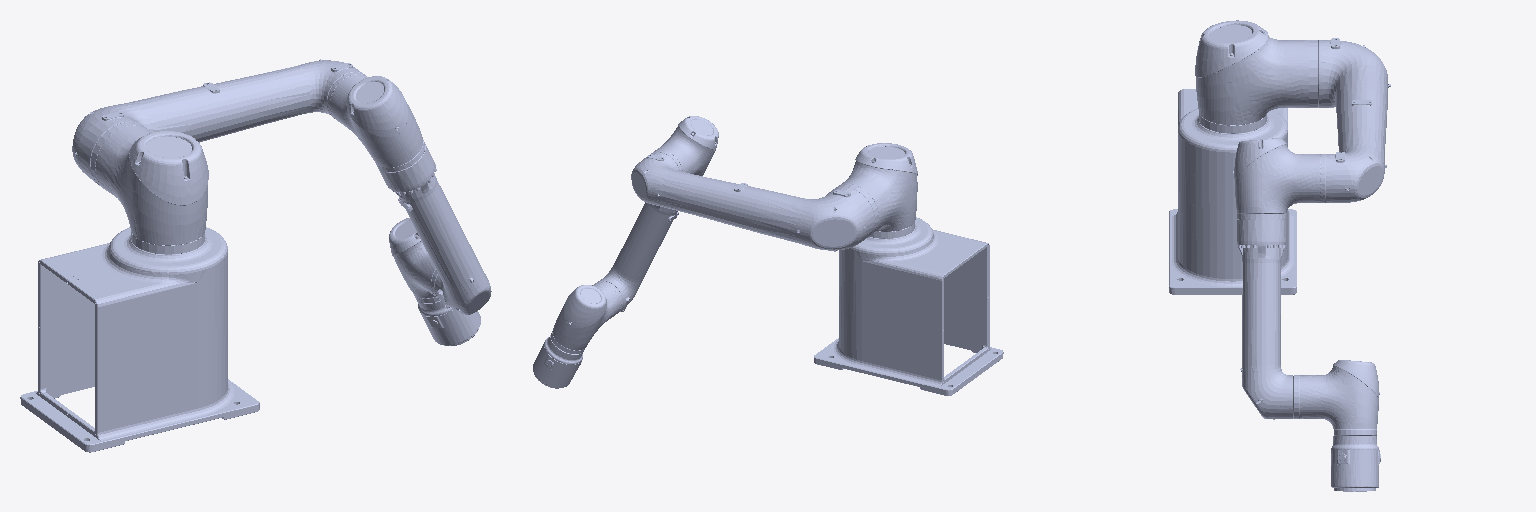
robot.urdf — hsr_co602:
<robot
  name="hsr_co602">


  <link name="world"/>

  <joint name="fixed" type="fixed">
    <parent link="world"/>
    <child link="base_link"/>
	<origin
      xyz="0 0 0.368"
      rpy="0 0 0" />
  </joint>

  <link
    name="base_link">
    <inertial>
      <origin
        xyz="-0.053135 0.00011269 -0.23463"
        rpy="0 0 0" />
      <mass
        value="9.6397" />
      <inertia
        ixx="0.0131883649088827"
        ixy="0.000223190726719286"
        ixz="0.0065397673191675"
        iyy="0.381831864466054"
        iyz="-5.12287437923494E-05"
        izz="0.379772548456655" />
    </inertial>
    <visual>
      <origin
        xyz="0 0 0"
        rpy="0 0 0" />
      <geometry>
        <mesh
          filename="package://hsr_description/meshes/co602/base_link.STL" />
      </geometry>
      <material
        name="">
        <color
          rgba="0.79216 0.81961 0.93333 1" />
      </material>
    </visual>
    <collision>
      <origin
        xyz="0 0 0"
        rpy="0 0 0" />
      <geometry>
        <mesh
          filename="package://hsr_description/meshes/co602/base_link.STL" />
      </geometry>
    </collision>
  </link>
  <link
    name="link1">
    <inertial>
      <origin
        xyz="1.7273E-05 0.041032 -0.008841"
        rpy="0 0 0" />
      <mass
        value="3.228" />
      <inertia
        ixx="0.0131883649088827"
        ixy="0.000223190726719286"
        ixz="0.0065397673191675"
        iyy="0.381831864466054"
        iyz="-5.12287437923494E-05"
        izz="0.379772548456655" />
    </inertial>
    <visual>
      <origin
        xyz="0 0 0"
        rpy="0 0 0" />
      <geometry>
        <mesh
          filename="package://hsr_description/meshes/co602/link1.STL" />
      </geometry>
      <material
        name="">
        <color
          rgba="0.79216 0.81961 0.93333 1" />
      </material>
    </visual>
    <collision>
      <origin
        xyz="0 0 0"
        rpy="0 0 0" />
      <geometry>
        <mesh
          filename="package://hsr_description/meshes/co602/link1.STL" />
      </geometry>
    </collision>
  </link>
  <joint
    name="joint_1"
    type="revolute">
    <origin
      xyz="0 0 0"
      rpy="-2.4562E-16 -3.154E-16 9.8608E-32" />
    <parent
      link="base_link" />
    <child
      link="link1" />
    <axis
      xyz="0 0 1" />
    <limit  lower="-3.4" upper="3.4" effort="28.0" velocity="3.2"/>
  <safety_controller k_position="100"
                     k_velocity="10"
                     soft_lower_limit="-3.4"
                     soft_upper_limit="3.4" />
  </joint>
  <link
    name="link2">
    <inertial>
      <origin
        xyz="0.18307 -4.0145E-05 -0.0052846"
        rpy="0 0 0" />
      <mass
        value="2.9808" />
      <inertia
        ixx="0.0131883649088827"
        ixy="0.000223190726719286"
        ixz="0.0065397673191675"
        iyy="0.381831864466054"
        iyz="-5.12287437923494E-05"
        izz="0.379772548456655" />
    </inertial>
    <visual>
      <origin
        xyz="0 0 0"
        rpy="0 0 0" />
      <geometry>
        <mesh
          filename="package://hsr_description/meshes/co602/link2.STL" />
      </geometry>
      <material
        name="">
        <color
          rgba="0.79216 0.81961 0.93333 1" />
      </material>
    </visual>
    <collision>
      <origin
        xyz="0 0 0"
        rpy="0 0 0" />
      <geometry>
        <mesh
          filename="package://hsr_description/meshes/co602/link2.STL" />
      </geometry>
    </collision>
  </link>
  <joint
    name="joint_2"
    type="revolute">
    <origin
      xyz="0 0.221 0"
      rpy="-1.5708 3.2234E-16 -9.0966E-30" />
    <parent
      link="link1" />
    <child
      link="link2" />
    <axis
      xyz="0 0 1" />
    <limit  lower="-3.0" upper="0.0" effort="28.0" velocity="3.2"/>
  <safety_controller k_position="100"
                     k_velocity="10"
                     soft_lower_limit="-3.0"
                     soft_upper_limit="0.0" />
  </joint>
  <link
    name="link3">
    <inertial>
      <origin
        xyz="5.3736057578635E-06 -0.00567869938833004 -0.143945640445635"
        rpy="0 0 0" />
      <mass
        value="1.40027181615014" />
      <inertia
        ixx="0.00181207507130265"
        ixy="-8.15897686341942E-07"
        ixz="-8.10607375549069E-05"
        iyy="0.00341914497805436"
        iyz="-2.61386178037707E-08"
        izz="0.00304056546013647" />
    </inertial>
    <visual>
      <origin
        xyz="0 0 0"
        rpy="0 0 0" />
      <geometry>
        <mesh
          filename="package://hsr_description/meshes/co602/link3.STL" />
      </geometry>
      <material
        name="">
        <color
          rgba="0.792156862745098 0.819607843137255 0.933333333333333 1" />
      </material>
    </visual>
    <collision>
      <origin
        xyz="0 0 0"
        rpy="0 0 0" />
      <geometry>
        <mesh
          filename="package://hsr_description/meshes/co602/link3.STL" />
      </geometry>
    </collision>
  </link>
  <joint
    name="joint_3"
    type="revolute">
    <origin
      xyz="0.425 0 0"
      rpy="6.7185E-17 -3.5791E-18 1.1796E-16" />
    <parent
      link="link2" />
    <child
      link="link3" />
    <axis
      xyz="0 0 1" />
    <limit  lower="1.4" upper="4.0" effort="28.0" velocity="3.2"/>
  <safety_controller k_position="100"
                     k_velocity="10"
                     soft_lower_limit="1.4"
                     soft_upper_limit="4.0" /> 
  </joint>
  <link
    name="link4">
    <inertial>
      <origin
        xyz="-3.92068223845077E-05 -0.00221851491153464 0.239302943183666"
        rpy="0 0 0" />
      <mass
        value="1.19786144008567" />
      <inertia
        ixx="0.100556216689899"
        ixy="-8.97773998376489E-09"
        ixz="-0.00192678369752958"
        iyy="0.100584424161445"
        iyz="9.85953790614856E-07"
        izz="0.00297677714591598" />
    </inertial>
    <visual>
      <origin
        xyz="0 0 0"
        rpy="0 0 0" />
      <geometry>
        <mesh
          filename="package://hsr_description/meshes/co602/link4.STL" />
      </geometry>
      <material
        name="">
        <color
          rgba="0.792156862745098 0.819607843137255 0.933333333333333 1" />
      </material>
    </visual>
    <collision>
      <origin
        xyz="0 0 0"
        rpy="0 0 0" />
      <geometry>
        <mesh
          filename="package://hsr_description/meshes/co602/link4.STL" />
      </geometry>
    </collision>
  </link>
  <joint
    name="joint_4"
    type="revolute">
    <origin
      xyz="0 0 -0.172"
      rpy="-1.5707963267949 -6.01453096837983E-18 3.14159265358979" />
    <parent
      link="link3" />
    <child
      link="link4" />
    <axis
      xyz="0 0 1" />
    <limit  lower="-3.0" upper="3.0" effort="28.0" velocity="3.2"/>
  <safety_controller k_position="100"
                     k_velocity="10"
                     soft_lower_limit="-3.0"
                     soft_upper_limit="3.0" /> 
  </joint>
  <link
    name="link5">
    <inertial>
      <origin
        xyz="-5.76159559284584E-07 -0.0150768503324061 0.0357098887562333"
        rpy="0 0 0" />
      <mass
        value="0.788300902451885" />
      <inertia
        ixx="0.00215689936272495"
        ixy="-1.57018649810158E-08"
        ixz="-1.86461968066964E-05"
        iyy="0.00196991648067436"
        iyz="-6.38364126417243E-07"
        izz="0.000809062204349609" />
    </inertial>
    <visual>
      <origin
        xyz="0 0 0"
        rpy="0 0 0" />
      <geometry>
        <mesh
          filename="package://hsr_description/meshes/co602/link5.STL" />
      </geometry>
      <material
        name="">
        <color
          rgba="0.792156862745098 0.819607843137255 0.933333333333333 1" />
      </material>
    </visual>
    <collision>
      <origin
        xyz="0 0 0"
        rpy="0 0 0" />
      <geometry>
        <mesh
          filename="package://hsr_description/meshes/co602/link5.STL" />
      </geometry>
    </collision>
  </link>
  <joint
    name="joint_5"
    type="revolute">
    <origin
      xyz="0 -0.1605 0.375"
      rpy="-1.5708 -6.9389E-18 2.9856E-17" />
    <parent
      link="link4" />
    <child
      link="link5" />
    <axis
      xyz="0 0 -1" />
    <limit  lower="-1.9" upper="1.9" effort="28.0" velocity="3.2"/>
  <safety_controller k_position="100"
                     k_velocity="10"
                     soft_lower_limit="-1.9"
                     soft_upper_limit="1.9" /> 
  </joint>
  <link
    name="link6">
    <inertial>
      <origin
        xyz="1.6497834229523E-05 -7.5808022156898E-06 -0.0410458521588936"
        rpy="0 0 0" />
      <mass
        value="0.41407451072884" />
      <inertia
        ixx="5.43734063572495E-06"
        ixy="-1.00108295474267E-07"
        ixz="4.39894702392336E-09"
        iyy="5.43734063575559E-06"
        iyz="-4.39894701843006E-09"
        izz="1.01791524144431E-05" />
    </inertial>
    <visual>
      <origin
        xyz="0 0 0"
        rpy="0 0 0" />
      <geometry>
        <mesh
          filename="package://hsr_description/meshes/co602/link6.STL" />
      </geometry>
      <material
        name="">
        <color
          rgba="0.792156862745098 0.819607843137255 0.933333333333333 1" />
      </material>
    </visual>
    <collision>
      <origin
        xyz="0 0 0"
        rpy="0 0 0" />
      <geometry>
        <mesh
          filename="package://hsr_description/meshes/co602/link6.STL" />
      </geometry>
    </collision>
  </link>
  <joint
    name="joint_6"
    type="revolute">
    <origin
      xyz="0 -0.1615 0"
      rpy="1.5708 -9.3415E-18 -4.21E-18" />
    <parent
      link="link5" />
    <child
      link="link6" />
    <axis
      xyz="0 0 1" />
    <limit  lower="-6" upper="6" effort="28.0" velocity="3.2"/>
  <safety_controller k_position="100"
                     k_velocity="10"
                     soft_lower_limit="-6"
                     soft_upper_limit="6" /> 
  </joint>

<gazebo>
    <plugin name="gazebo_ros_control" filename="libgazebo_ros_control.so">
      <robotNamespace>/</robotNamespace>
      <robotSimType>gazebo_ros_control/DefaultRobotHWSim</robotSimType>
    </plugin>
  </gazebo>

  <transmission name="tran1">
    <type>transmission_interface/SimpleTransmission</type>
    <joint name="joint_1">
      <hardwareInterface>PositionJointInterface</hardwareInterface>
    </joint>
    <actuator name="motor1">
      <hardwareInterface>PositionJointInterface</hardwareInterface>
      <mechanicalReduction>1</mechanicalReduction>
    </actuator>
  </transmission>

  <transmission name="tran2">
    <type>transmission_interface/SimpleTransmission</type>
    <joint name="joint_2">
      <hardwareInterface>PositionJointInterface</hardwareInterface>
    </joint>
    <actuator name="motor2">
      <hardwareInterface>PositionJointInterface</hardwareInterface>
      <mechanicalReduction>1</mechanicalReduction>
    </actuator>
  </transmission>

  <transmission name="tran3">
    <type>transmission_interface/SimpleTransmission</type>
    <joint name="joint_3">
      <hardwareInterface>PositionJointInterface</hardwareInterface>
    </joint>
    <actuator name="motor3">
      <hardwareInterface>PositionJointInterface</hardwareInterface>
      <mechanicalReduction>1</mechanicalReduction>
    </actuator>
  </transmission>

  <transmission name="tran4">
    <type>transmission_interface/SimpleTransmission</type>
    <joint name="joint_4">
      <hardwareInterface>PositionJointInterface</hardwareInterface>
    </joint>
    <actuator name="motor4">
      <hardwareInterface>PositionJointInterface</hardwareInterface>
      <mechanicalReduction>1</mechanicalReduction>
    </actuator>
  </transmission>

  <transmission name="tran5">
    <type>transmission_interface/SimpleTransmission</type>
    <joint name="joint_5">
      <hardwareInterface>PositionJointInterface</hardwareInterface>
    </joint>
    <actuator name="motor5">
      <hardwareInterface>PositionJointInterface</hardwareInterface>
      <mechanicalReduction>1</mechanicalReduction>
    </actuator>
  </transmission>

  <transmission name="tran6">
    <type>transmission_interface/SimpleTransmission</type>
    <joint name="joint_6">
      <hardwareInterface>PositionJointInterface</hardwareInterface>
    </joint>
    <actuator name="motor6">
      <hardwareInterface>PositionJointInterface</hardwareInterface>
      <mechanicalReduction>1</mechanicalReduction>
    </actuator>
  </transmission>

</robot>

--- Render facts (derived) ---
The picture shows the robot from 3 angles, left to right: view 1: azimuth 30°, elevation 25°; view 2: azimuth 150°, elevation 25°; view 3: azimuth 270°, elevation 25°; orthographic projection.
Robot: hsr_co602 — 8 links, 7 joints (6 revolute, 1 fixed); root link world; default pose: joints at zero except 1 at the middle of their limits (joint_3 = 2.7).
Links seen in each view (by area): view 1: base_link, link2, link1, link4, link3, link5, link6; view 2: base_link, link2, link1, link4, link5, link3, link6; view 3: base_link, link1, link2, link4, link3, link5, link6.
Link boxes in pixels (x1,y1,x2,y2): base_link: [20, 227, 259, 452]; link2: [72, 59, 362, 185]; link1: [91, 122, 208, 254]; link4: [378, 144, 491, 314]; link3: [327, 72, 425, 171]; link5: [389, 218, 440, 302]; link6: [416, 299, 480, 345]; base_link: [814, 217, 1003, 395]; link2: [631, 152, 874, 251]; link1: [833, 143, 917, 238]; link4: [598, 202, 678, 311]; link5: [551, 281, 622, 353]; link3: [651, 116, 718, 175]; link6: [533, 335, 582, 388]; base_link: [1169, 89, 1296, 294]; link1: [1195, 20, 1317, 133]; link2: [1318, 38, 1390, 202]; link4: [1237, 220, 1292, 419]; link3: [1233, 138, 1325, 219]; link5: [1293, 360, 1379, 435]; link6: [1331, 436, 1380, 491].
Size in the robot's own frame: 0.9002 by 0.3809 by 0.583 metres.
7 mesh visuals loaded from 7 distinct referenced files (7 binary STL).